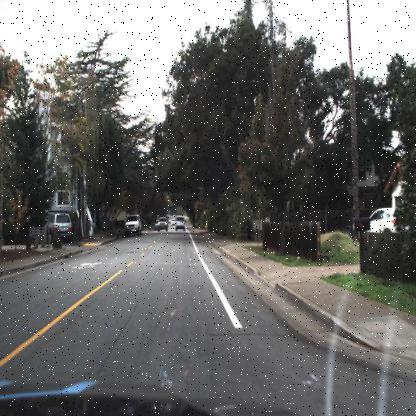car: (361, 206, 406, 238), (46, 209, 74, 245), (123, 212, 143, 235), (172, 215, 186, 232), (158, 216, 169, 233)
